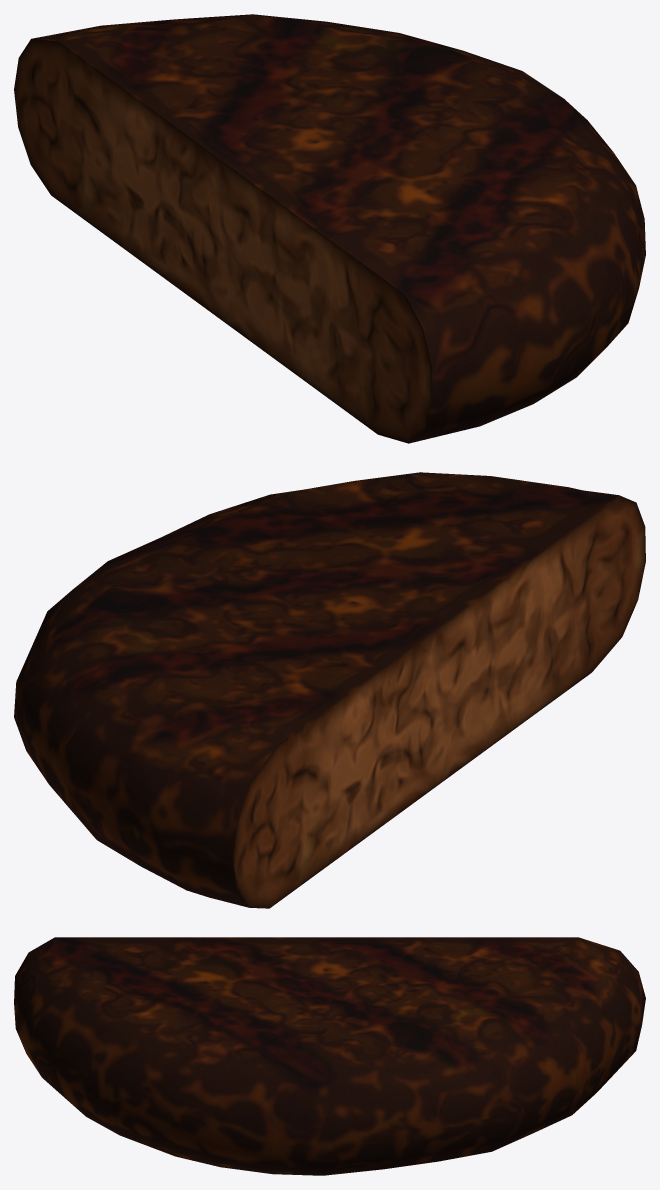
The model's file is SM_BurgerPattyBurnedCutB.glb.
3 renders of one model, top to bottom at view 1: azimuth 30°, elevation 25°; view 2: azimuth 150°, elevation 25°; view 3: azimuth 270°, elevation 25°, orthographic. The views are drawn at different scales.
Visible parts, largest first — view 1: SM_BurgerPattyBurnedCutB; view 2: SM_BurgerPattyBurnedCutB; view 3: SM_BurgerPattyBurnedCutB.
Part boxes in pixels (bbox=[...]): SM_BurgerPattyBurnedCutB: bbox=[14, 14, 645, 443]; SM_BurgerPattyBurnedCutB: bbox=[14, 472, 645, 908]; SM_BurgerPattyBurnedCutB: bbox=[14, 937, 645, 1175].
Size of the model in its own units: 0.0891 by 0.0362 by 0.1719.
1 material, 1 textured.
